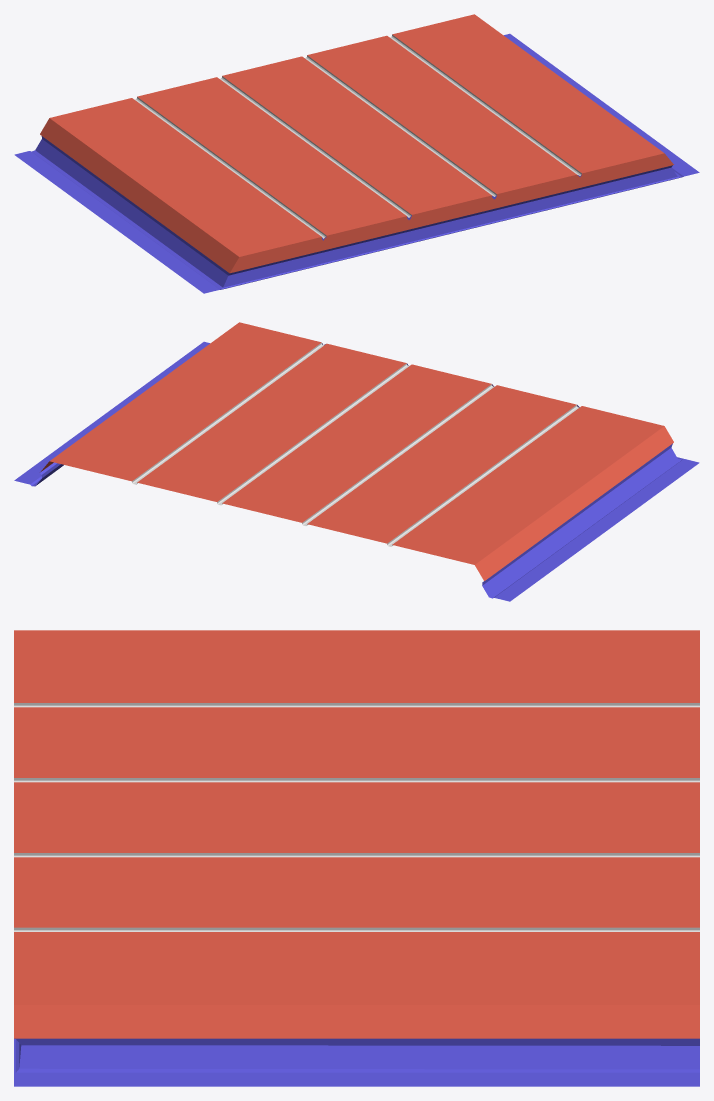
The model's file is Corner_Roof.fbx.
The picture shows the model from 3 angles, top to bottom: view 1: azimuth 30°, elevation 25°; view 2: azimuth 150°, elevation 25°; view 3: azimuth 270°, elevation 25°; orthographic projection. The views are drawn at different scales.
Visible parts, largest first — view 1: Plane; view 2: Plane; view 3: Plane.
Part boxes in pixels (box(x1,y1,x2,y2)): Plane: box(14, 14, 699, 293); Plane: box(14, 322, 699, 601); Plane: box(14, 630, 699, 1086).
Size of the model in its own units: 1506 by 84.89 by 999.
